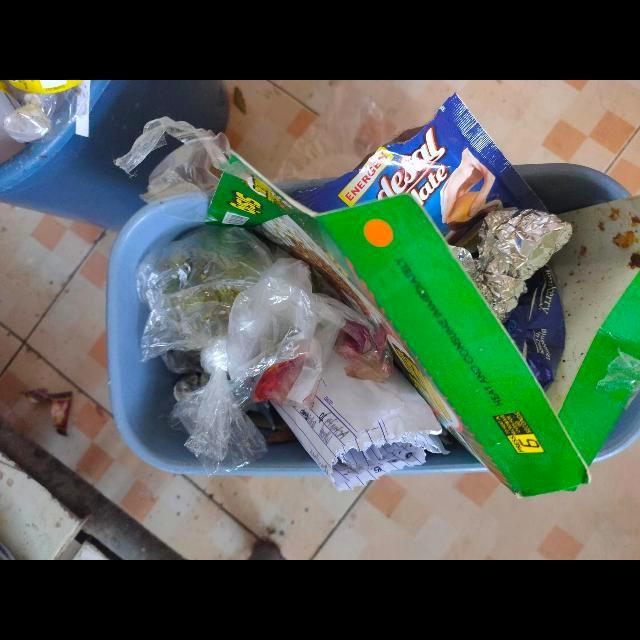aluminum: (451, 207, 573, 319)
cardboard: (205, 153, 640, 500)
food_wrapper: (502, 269, 568, 390)
paper: (271, 354, 451, 492)
plastic_bag: (136, 225, 389, 474), (113, 116, 231, 205)
plastic_sachet: (290, 95, 548, 259)
